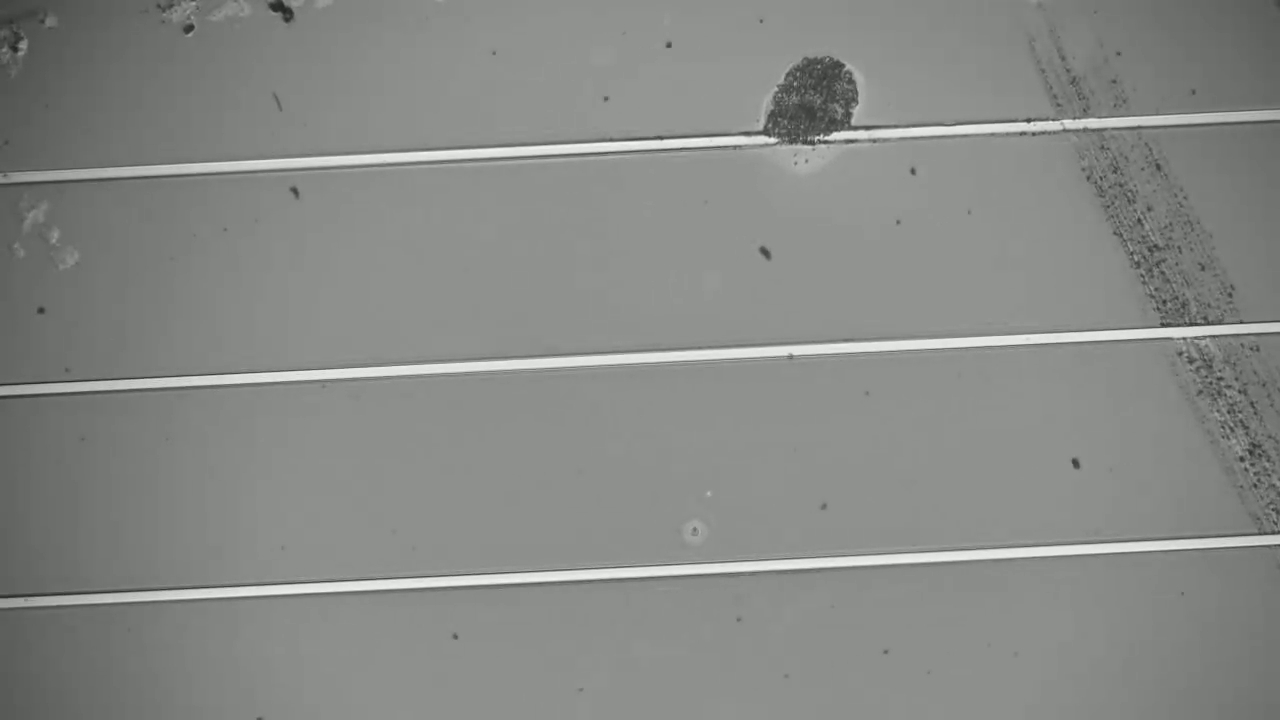stains_enbedded: (725, 25, 897, 197)
